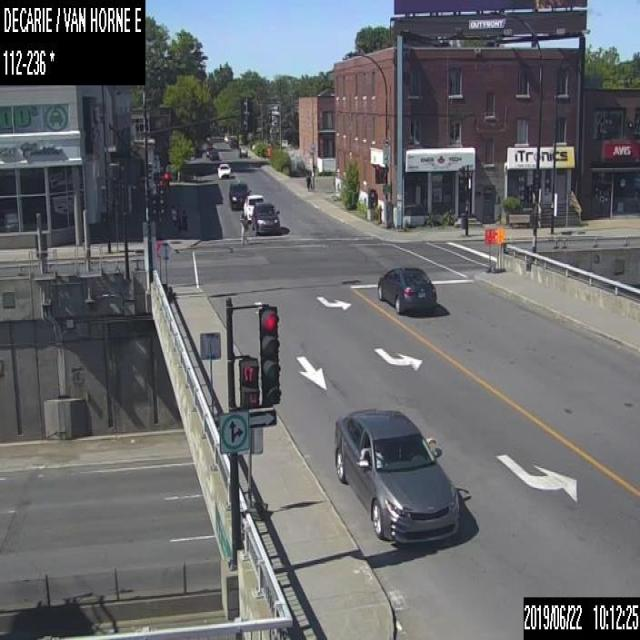construction: (243, 427, 266, 516), (200, 331, 220, 426), (157, 239, 175, 303), (483, 225, 494, 272), (495, 225, 505, 273)
pedestrian: (238, 209, 246, 244), (169, 201, 176, 226), (181, 208, 187, 230), (305, 168, 310, 193), (176, 208, 181, 229)
vehicle: (332, 405, 458, 544), (377, 264, 438, 312), (252, 202, 279, 235), (242, 193, 265, 222), (228, 181, 251, 210), (216, 162, 231, 178), (209, 148, 218, 160), (238, 145, 246, 154)
